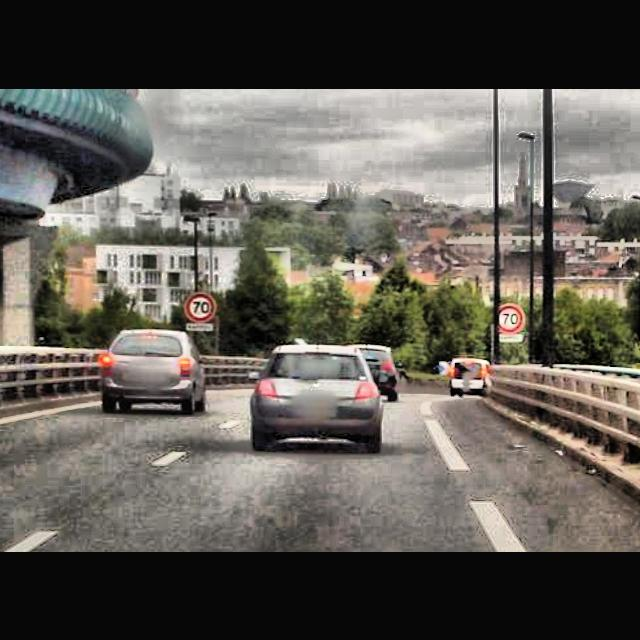speed_70: (186, 292, 217, 318), (497, 304, 523, 332)
